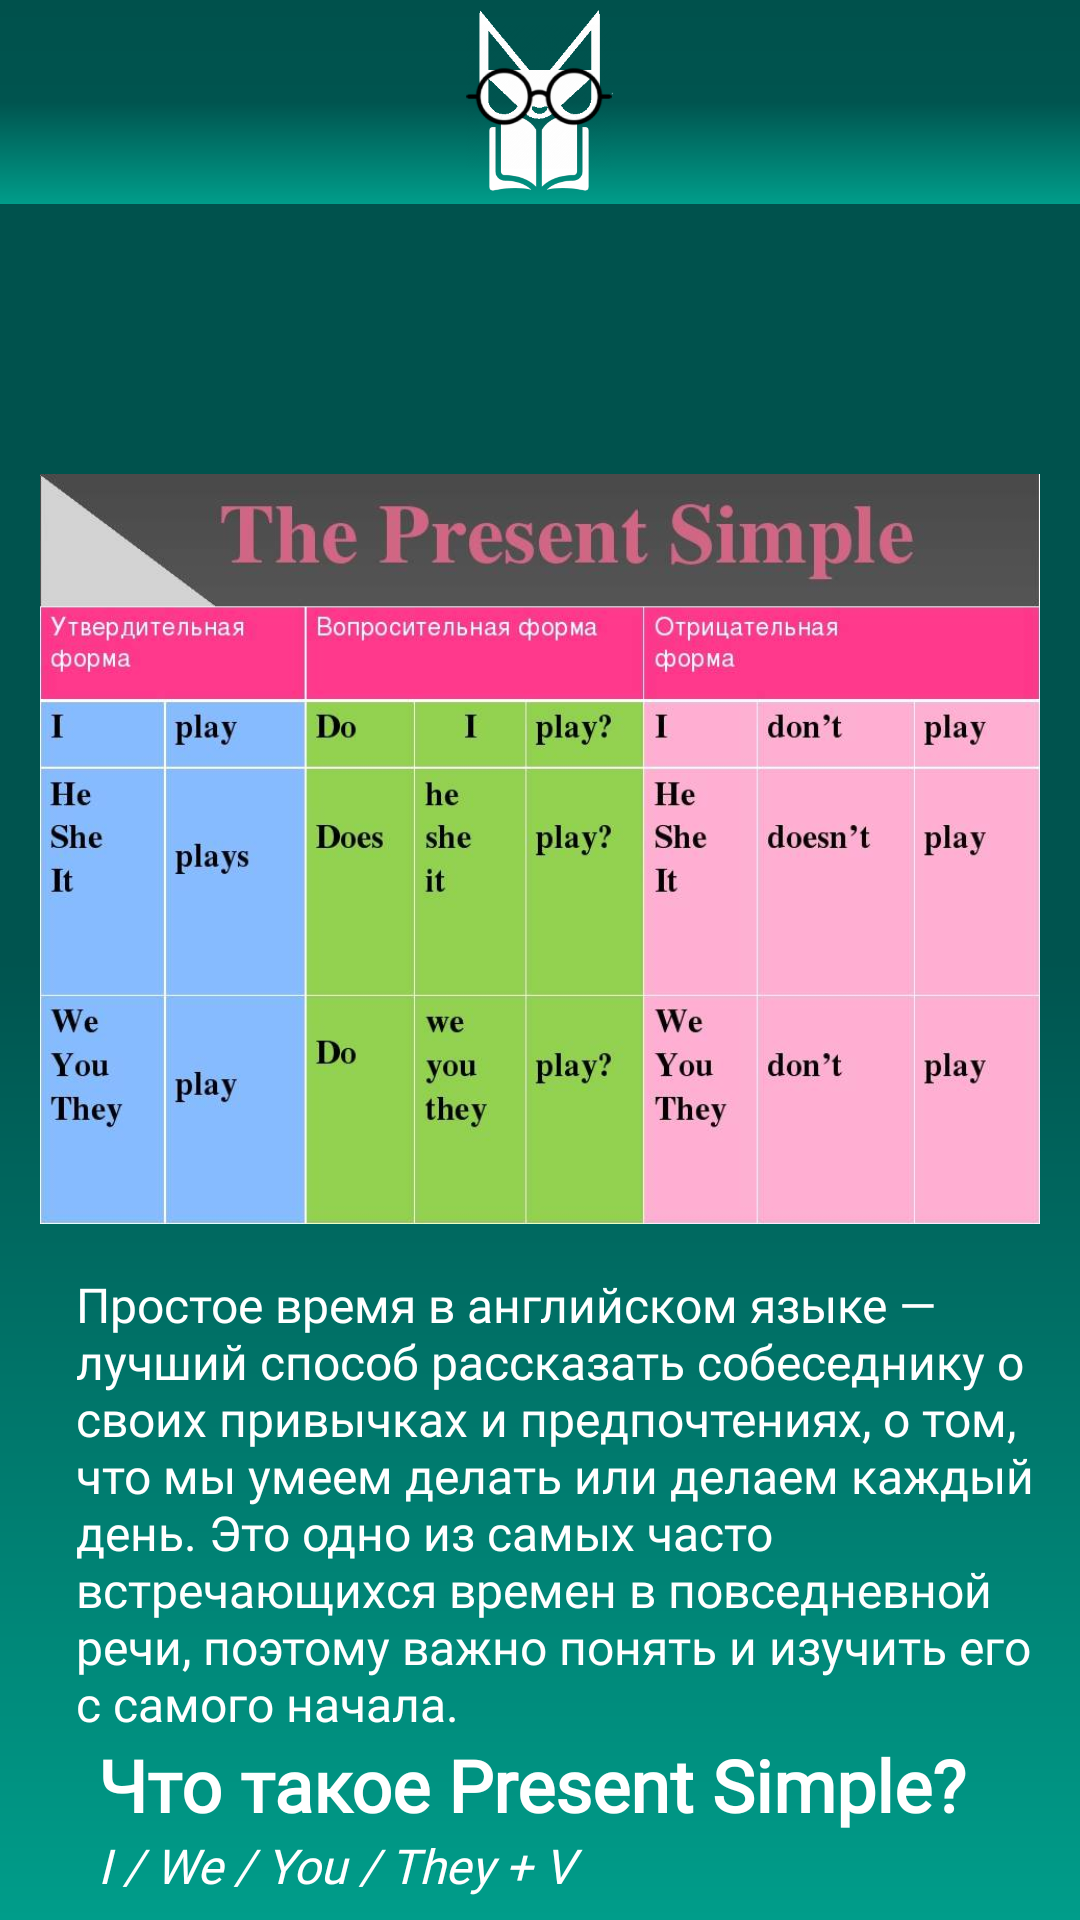

Icons on this 1080 × 1920 Android screen, each with the point to tap as [x,y]:
reading cat: [540,107]
